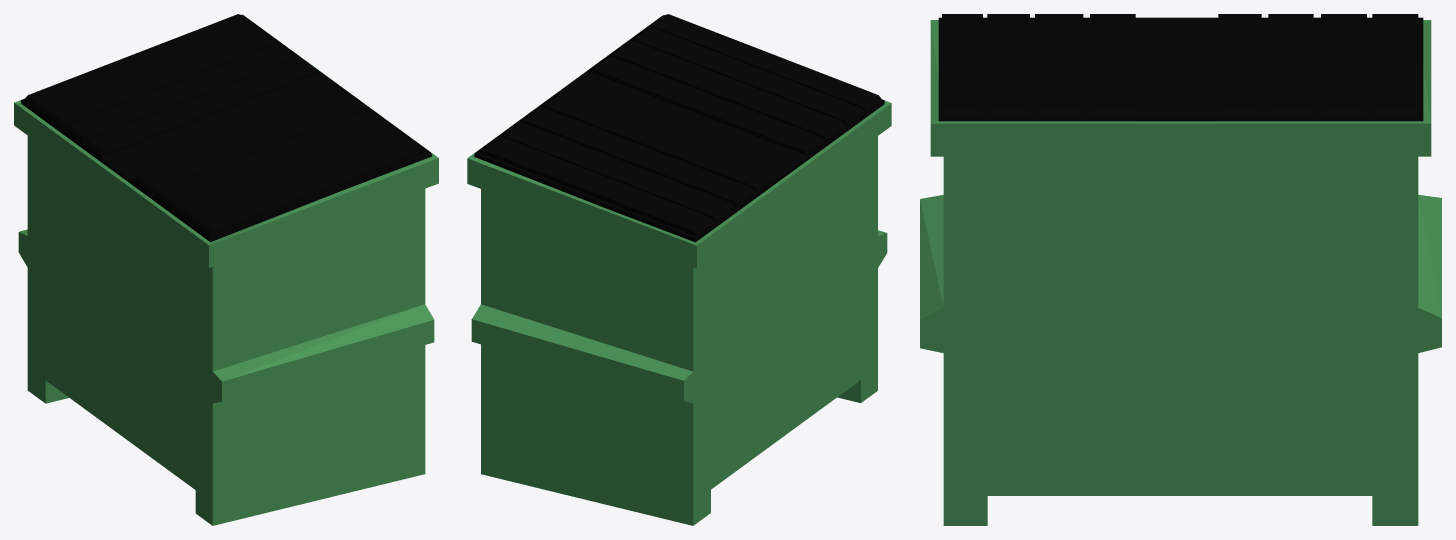
The model's file is dumpster.fbx.
3 views of the same model, side by side, from view 1: azimuth 30°, elevation 25°; view 2: azimuth 150°, elevation 25°; view 3: azimuth 270°, elevation 25° (orthographic). The views are drawn at different scales.
Parts seen in each view (by area): view 1: pCube3, pCube4; view 2: pCube3, pCube4; view 3: pCube3, pCube4.
Part boxes in pixels (x1=…): pCube3: x1=14, y1=15, x2=438, y2=525; pCube4: x1=21, y1=14, x2=431, y2=241; pCube3: x1=467, y1=16, x2=891, y2=525; pCube4: x1=474, y1=14, x2=884, y2=242; pCube3: x1=920, y1=20, x2=1441, y2=525; pCube4: x1=938, y1=14, x2=1423, y2=121.
Bounding box in the file's own units: 7.07 × 9.56 × 10.83.
